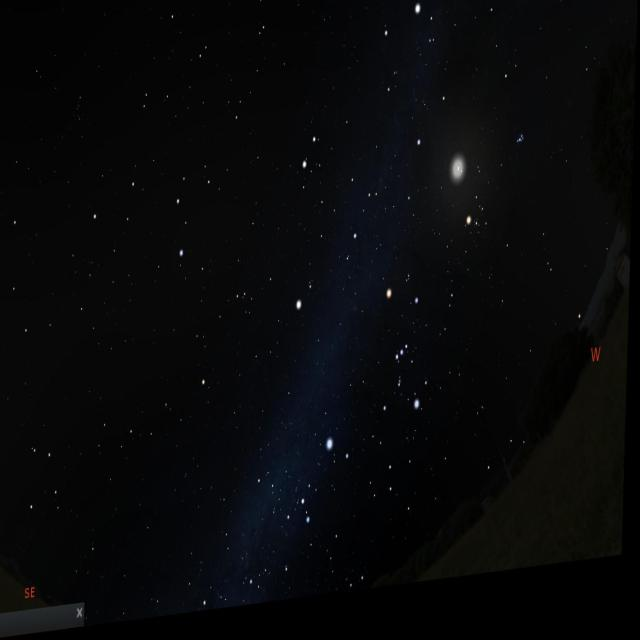canis_major: (296, 447, 362, 545)
canis_minor: (291, 283, 328, 346)
gemini: (288, 119, 400, 289)
leo: (92, 153, 219, 280)
moon: (442, 146, 480, 202)
orion: (380, 285, 432, 439)
pleiades: (512, 139, 532, 168)
taurus: (459, 126, 536, 268)
